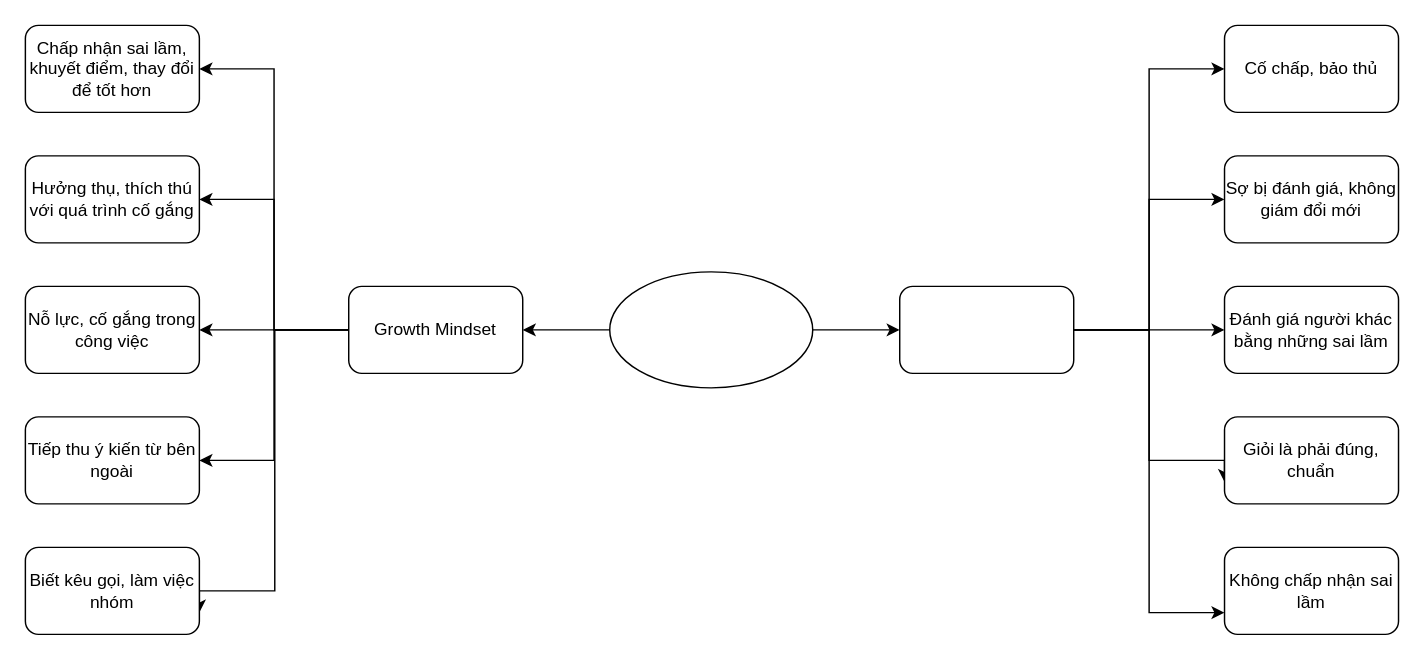
Some shapes in this 1424 by 660 pixel diagram are drawn without their labels. Here are the shapes that lost their labels. From the top down, the box of each, then its label:
(608, 270, 813, 388): Tư duy nào giúp bạn thành công
(898, 285, 1074, 373): Fixed Mindset
